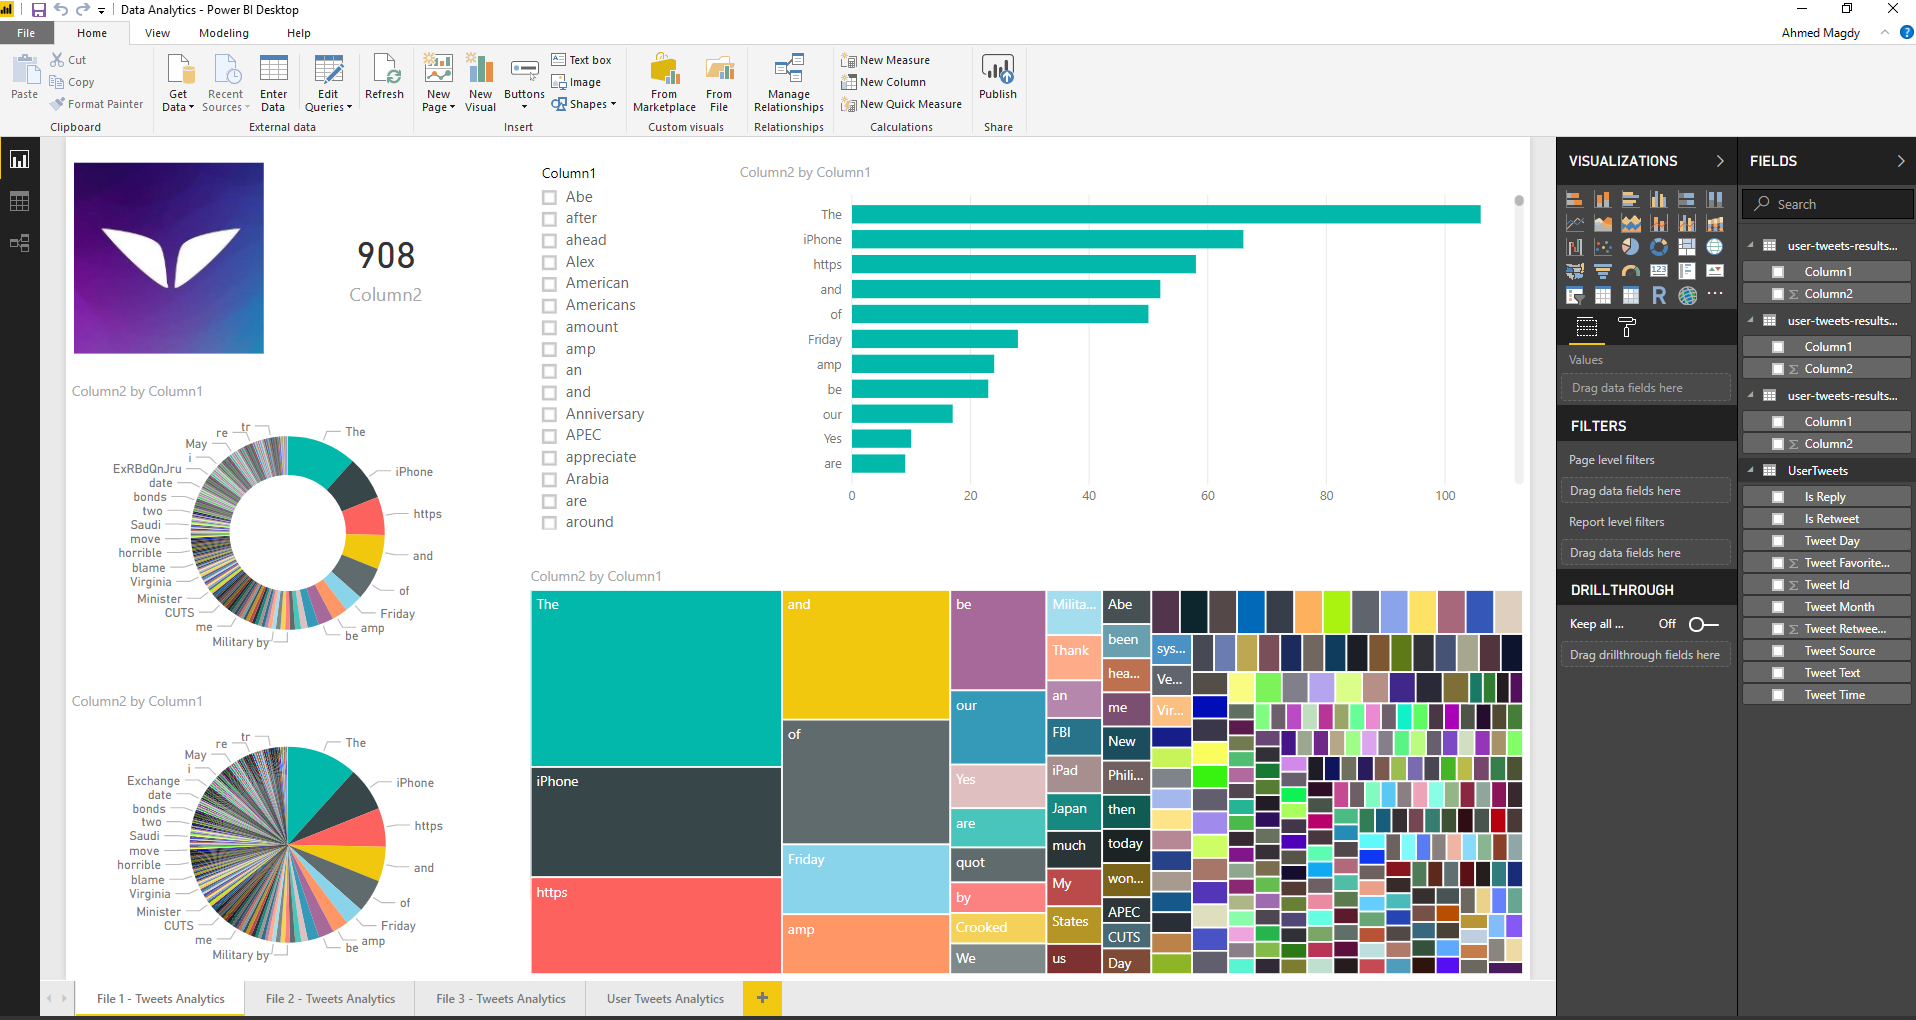

This screenshot's page, from the dashboard's own definition file:
{"tool":"powerbi","page":{"name":"File 1 - Tweets Analytics","canvas":[1280,720],"ordinal":0},"visuals":[{"type":"donutChart","fields":{"Y":["Sum(user-tweets-results-00000-of-00003.Column2)"],"Category":["user-tweets-results-00000-of-00003.Column1"]},"box":[0,196,387.6,250.2],"z":1},{"type":"pieChart","fields":{"Y":["Sum(user-tweets-results-00000-of-00003.Column2)"],"Category":["user-tweets-results-00000-of-00003.Column1"]},"box":[0,467.2,387.6,252.8],"z":2},{"type":"card","fields":{"Values":["Sum(user-tweets-results-00000-of-00003.Column2)"]},"box":[210,53.4,140,79.6],"z":4},{"type":"treemap","fields":{"Group":["user-tweets-results-00000-of-00003.Column1"],"Values":["Sum(user-tweets-results-00000-of-00003.Column2)"]},"box":[401.6,357.8,878.3,362.2],"z":5},{"type":"image","box":[0,0,179.3,176.7],"z":6},{"type":"slicer","fields":{"Values":["user-tweets-results-00000-of-00003.Column1"]},"box":[403.3,0,162.7,330.7],"z":7},{"type":"clusteredBarChart","fields":{"Category":["user-tweets-results-00000-of-00003.Column1"],"Y":["Sum(user-tweets-results-00000-of-00003.Column2)"]},"box":[584.4,4.4,695.5,309.7],"z":7}]}

Visuals, with their boxes on the page's 1280x720 design canvas (x1, y1, x2, y2). These are canvas units, not pixel positions in the 1916x1020 screenshot, which may show the page scaled, cropped or inside an application window:
donutChart - Sum(user-tweets-results-00000-of-00003.Column2) x user-tweets-results-00000-of-00003.Column1: region(0, 196, 388, 446)
pieChart - Sum(user-tweets-results-00000-of-00003.Column2) x user-tweets-results-00000-of-00003.Column1: region(0, 467, 388, 720)
card - Sum(user-tweets-results-00000-of-00003.Column2): region(210, 53, 350, 133)
treemap - user-tweets-results-00000-of-00003.Column1 x Sum(user-tweets-results-00000-of-00003.Column2): region(402, 358, 1280, 720)
image: region(0, 0, 179, 177)
slicer - user-tweets-results-00000-of-00003.Column1: region(403, 0, 566, 331)
clusteredBarChart - user-tweets-results-00000-of-00003.Column1 x Sum(user-tweets-results-00000-of-00003.Column2): region(584, 4, 1280, 314)
